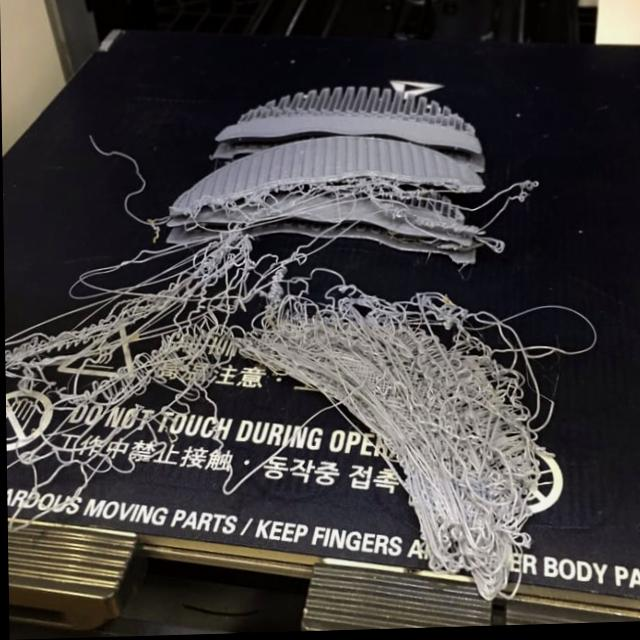spaghetti: (0, 2, 616, 609)
